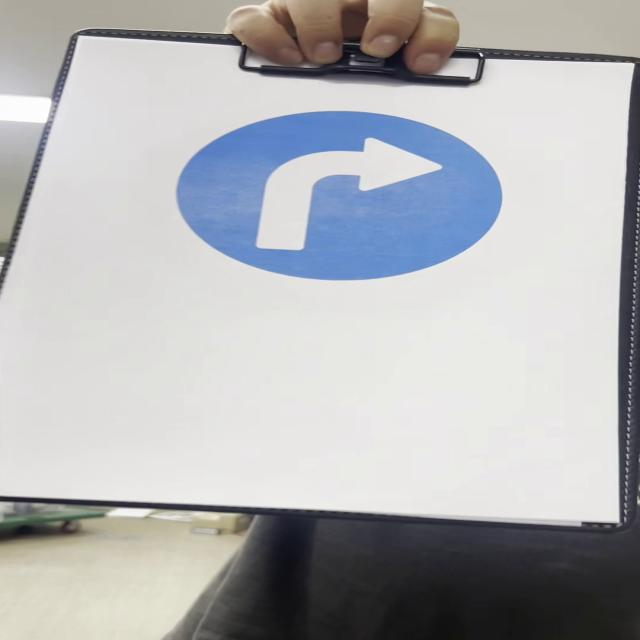right: (178, 113, 508, 282)
